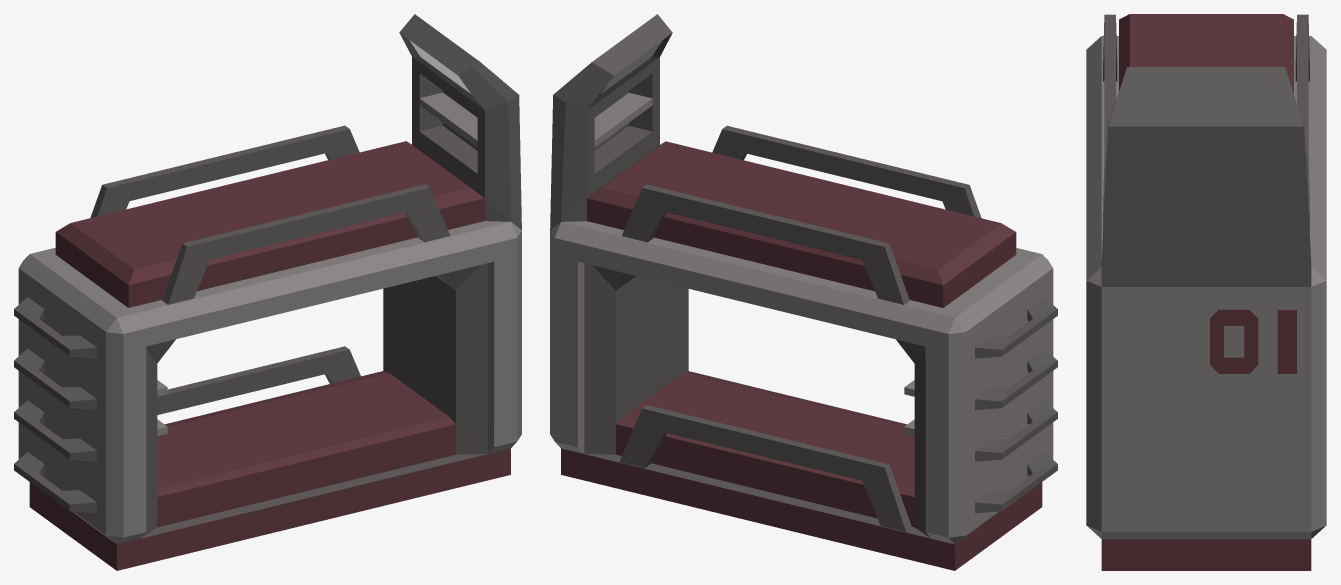
The model's file is scifi-bunkbed.fbx.
The picture shows the model from 3 angles, left to right: view 1: azimuth 30°, elevation 25°; view 2: azimuth 150°, elevation 25°; view 3: azimuth 270°, elevation 25°; orthographic projection. The views are drawn at different scales.
Visible parts, largest first — view 1: scifi-bunkbed; view 2: scifi-bunkbed; view 3: scifi-bunkbed.
Boxes of the visible parts, left/top/right/bottom form: scifi-bunkbed: left=14, top=14, right=521, bottom=570; scifi-bunkbed: left=550, top=14, right=1057, bottom=570; scifi-bunkbed: left=1086, top=14, right=1326, bottom=570.
Size of the model in its own units: 3.21 by 2.87 by 1.27.
